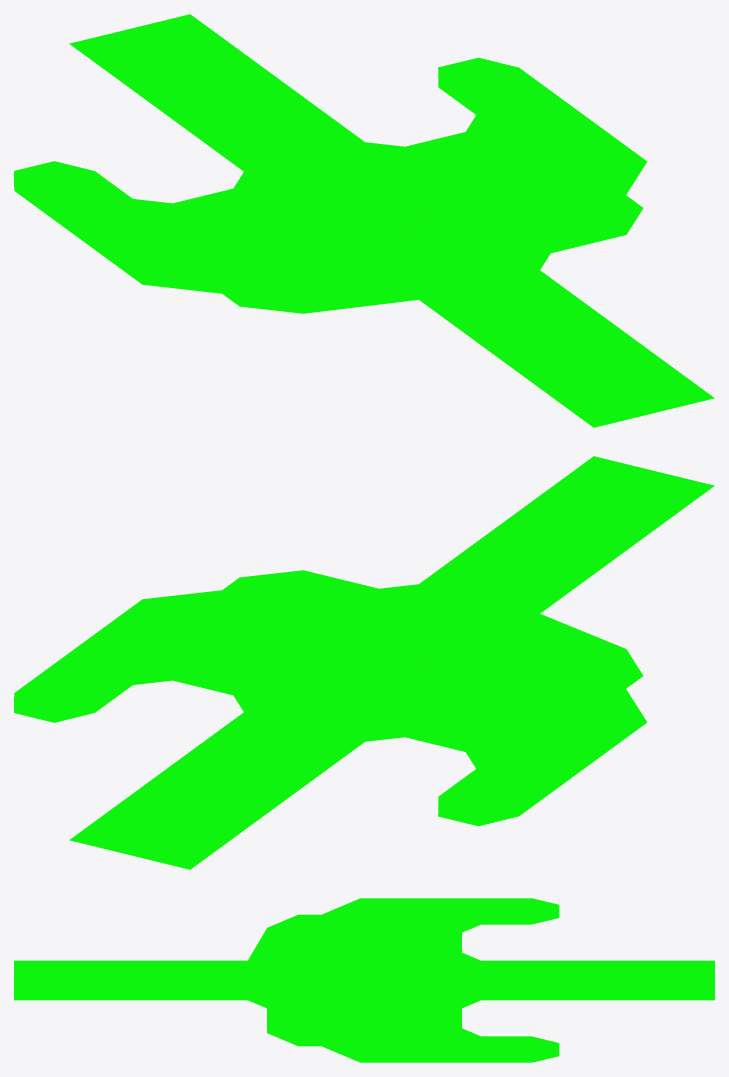
Rendered from s06a_ib1-floor.glb.
The picture shows the model from 3 angles, top to bottom: view 1: azimuth 30°, elevation 25°; view 2: azimuth 150°, elevation 25°; view 3: azimuth 270°, elevation 25°; orthographic projection. The views are drawn at different scales.
Visible parts, largest first — view 1: collision_floor-colonly; view 2: collision_floor-colonly; view 3: collision_floor-colonly.
Boxes of the visible parts, bbox=[...] form: collision_floor-colonly: bbox=[14, 14, 714, 427]; collision_floor-colonly: bbox=[14, 456, 714, 869]; collision_floor-colonly: bbox=[14, 898, 714, 1062].
Bounding box in the file's own units: 50 × 0.1016 × 90.
